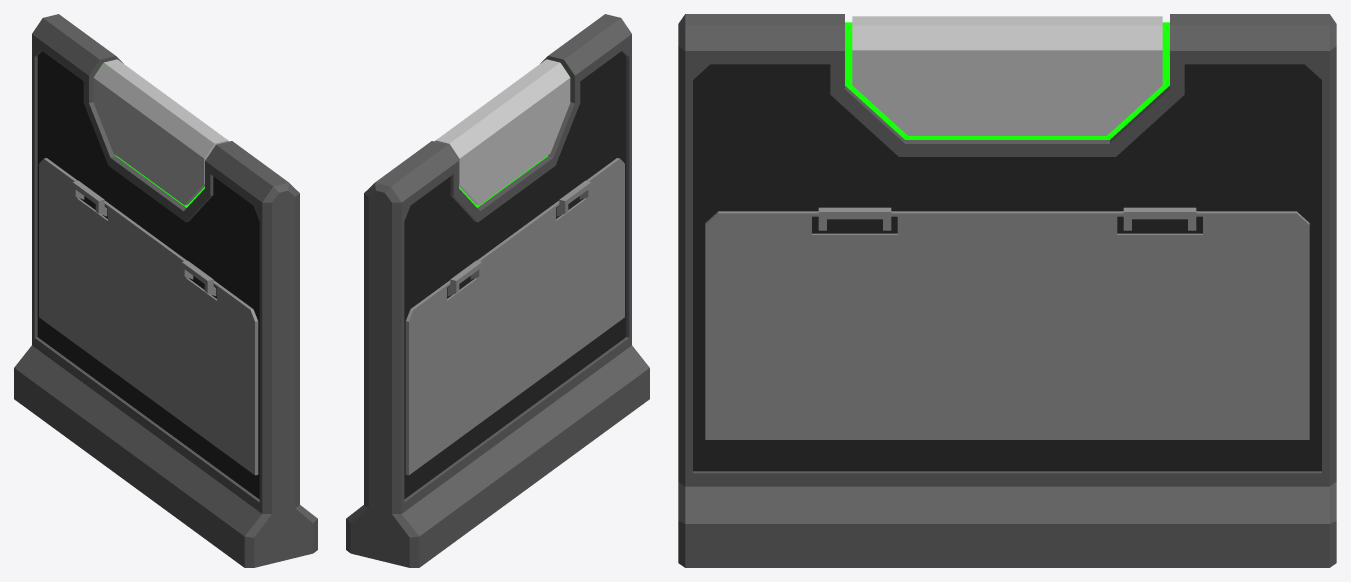
File: Fence_12.FBX
The picture shows the model from 3 angles, left to right: view 1: azimuth 30°, elevation 25°; view 2: azimuth 150°, elevation 25°; view 3: azimuth 270°, elevation 25°; orthographic projection. The views are drawn at different scales.
Parts seen in each view (by area): view 1: Fence_12_LOD0; view 2: Fence_12_LOD0; view 3: Fence_12_LOD0.
Boxes of the visible parts, x1,y1,x2,y2 form: Fence_12_LOD0: (14, 14, 317, 567); Fence_12_LOD0: (346, 14, 649, 567); Fence_12_LOD0: (678, 14, 1336, 567).
Size of what is drawn, in the model's own units: 32.37 by 158 by 180.
